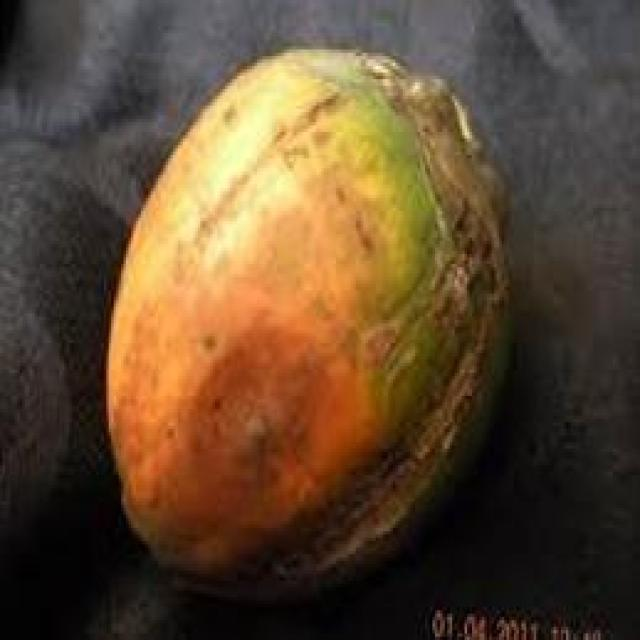good: (101, 49, 516, 617)
